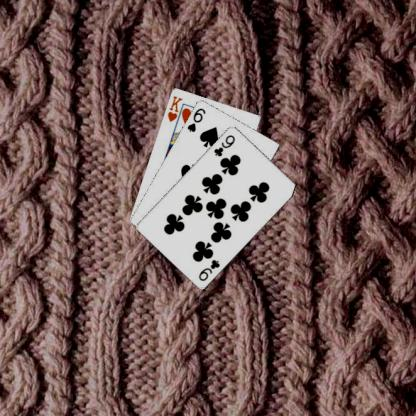6S: (184, 105, 206, 133)
9C: (211, 131, 236, 158), (196, 256, 221, 282)
KH: (165, 93, 184, 123)
